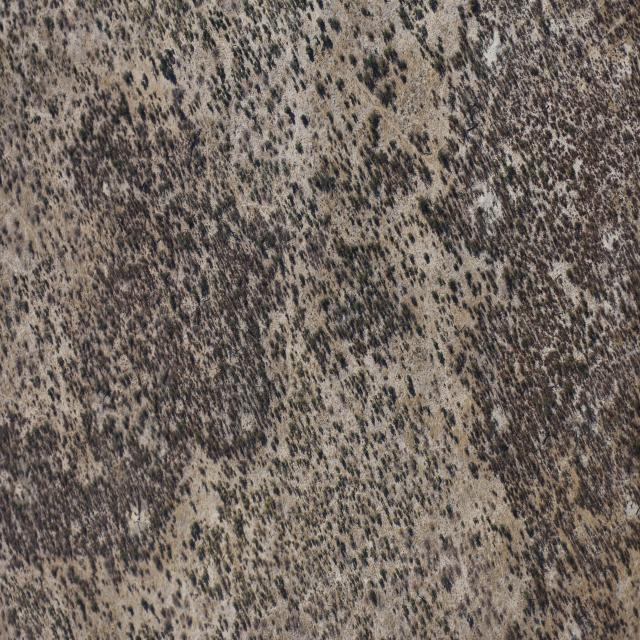elephant: (186, 135, 194, 145), (417, 593, 425, 600), (466, 611, 470, 623), (141, 181, 147, 188), (118, 216, 123, 223), (116, 220, 120, 228)
